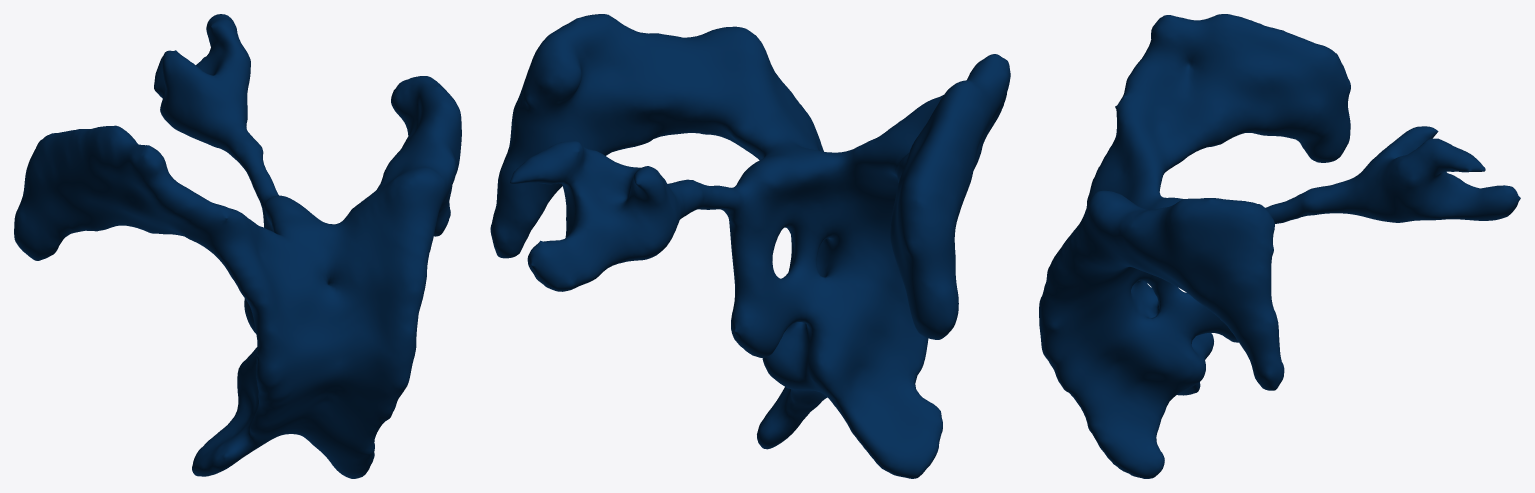
Rendered from Ventricle.obj.
The picture shows the model from 3 angles, left to right: view 1: azimuth 30°, elevation 25°; view 2: azimuth 150°, elevation 25°; view 3: azimuth 270°, elevation 25°; orthographic projection. The views are drawn at different scales.
Parts seen in each view (by area): view 1: grp1; view 2: grp1; view 3: grp1.
Boxes of the visible parts, x1,y1,x2,y2 form: grp1: (14, 14, 461, 478); grp1: (490, 14, 1010, 478); grp1: (1039, 14, 1520, 478).
Bounding box in the file's own units: 83.24 × 72.89 × 86.07.
